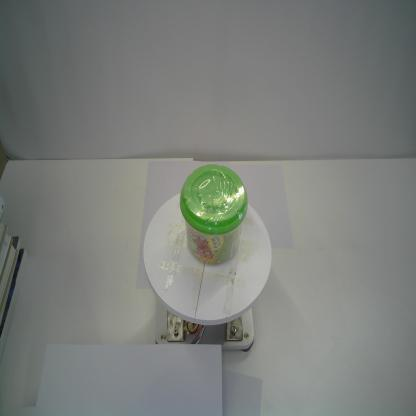Instant Drink: (178, 163, 249, 266)
